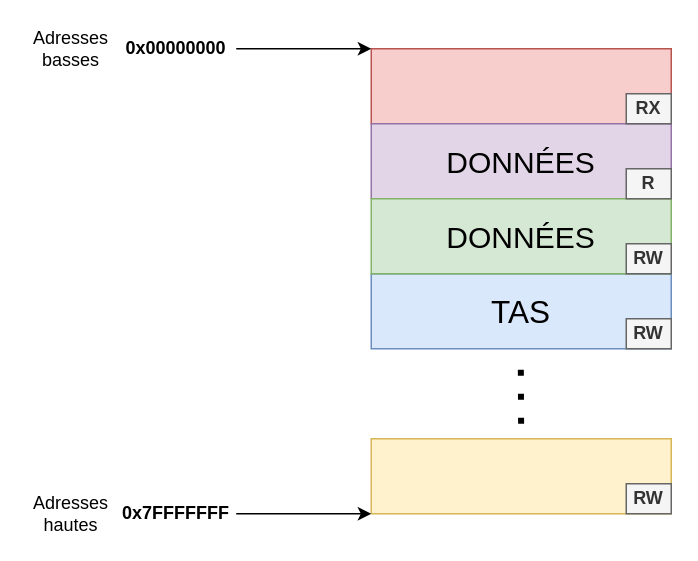
Image size: 698x561. Some labels were removed from this diagram. The box of each missing label's shape, as (x1, y1, x2, y2) in pixels:
CODE: (370, 47, 671, 124)
PILE: (370, 437, 671, 514)
